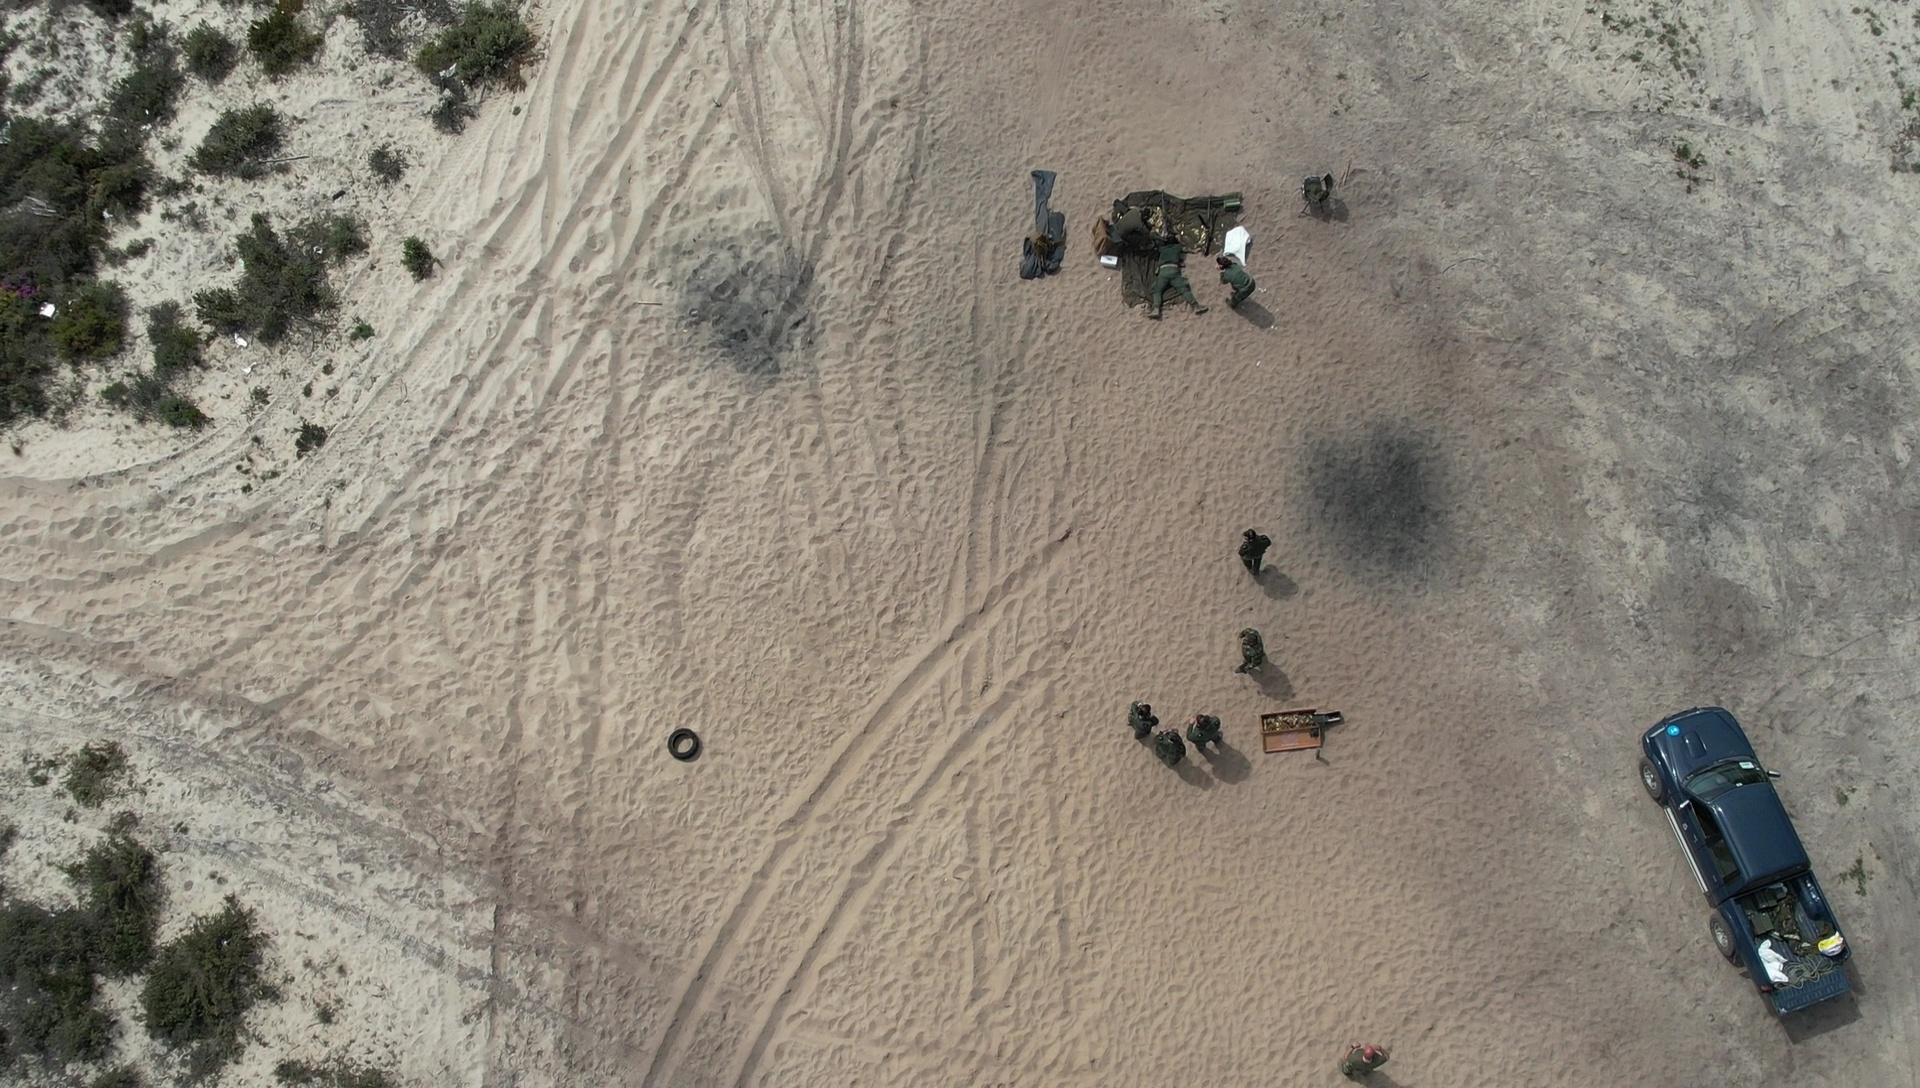Soldier: (1147, 228, 1215, 349), (1097, 181, 1168, 255), (1228, 612, 1288, 691), (1182, 695, 1242, 769), (1228, 514, 1282, 587), (1149, 711, 1197, 782), (1215, 245, 1262, 317), (1333, 1029, 1396, 1080), (1122, 686, 1166, 745)
